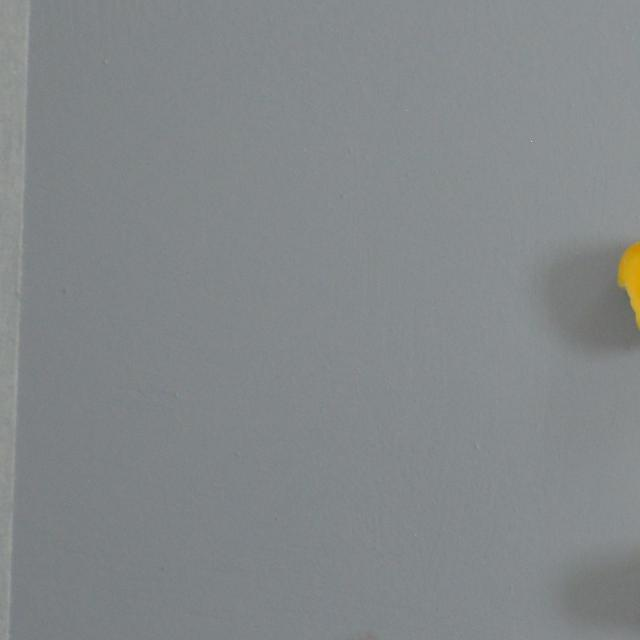pelicula: (614, 232, 640, 351)
